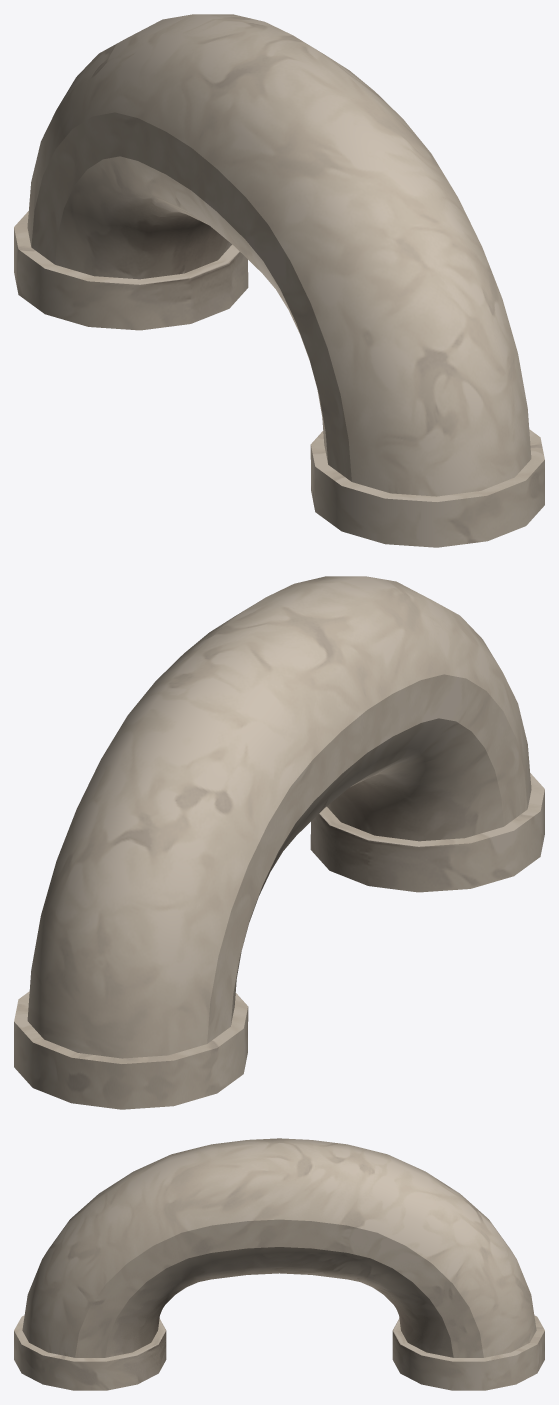
The model's file is kolumna_2_czesc_top.obj.
3 views of the same model, one above another, from view 1: azimuth 30°, elevation 25°; view 2: azimuth 150°, elevation 25°; view 3: azimuth 270°, elevation 25° (orthographic). The views are drawn at different scales.
Visible parts, largest first — view 1: Cylinder.001; view 2: Cylinder.001; view 3: Cylinder.001.
Boxes of the visible parts, x1,y1,x2,y2 form: Cylinder.001: (14,14,544,547); Cylinder.001: (14,576,544,1109); Cylinder.001: (14,1138,544,1390).
Bounding box in the file's own units: 6.37 × 10.32 × 23.07.
1 material, 1 textured.
